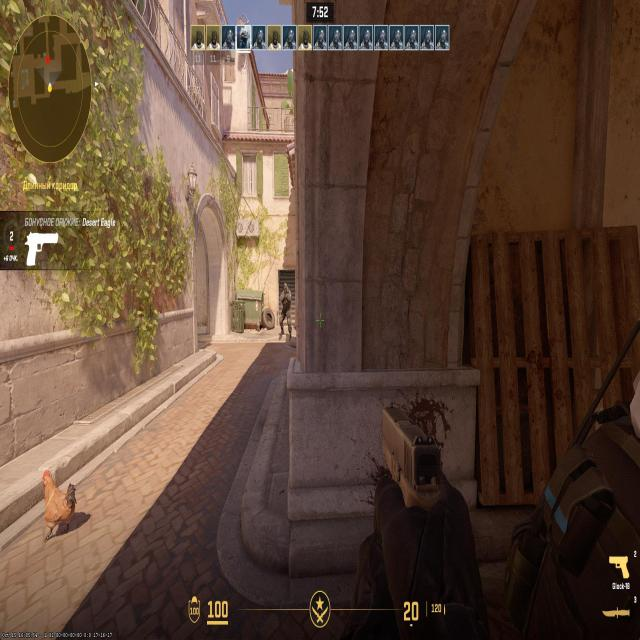CT: (280, 284, 292, 331)
CT_heat: (284, 286, 288, 296)
